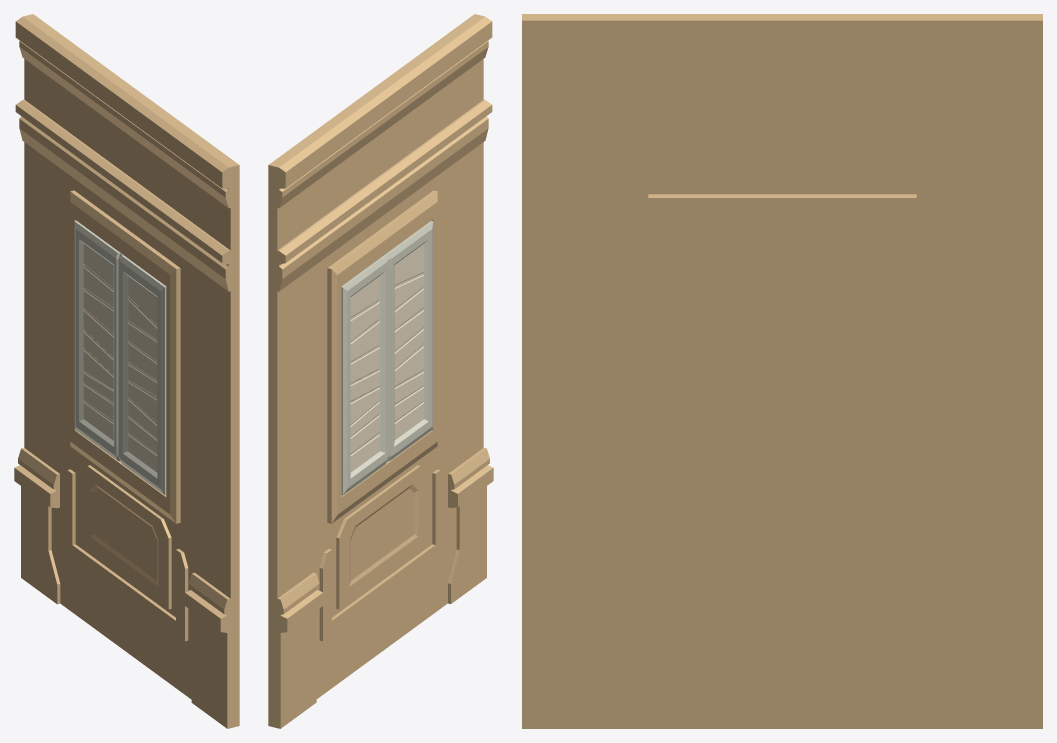
File: 4_WallHole_2_C.fbx
3 views of the same model, side by side, from view 1: azimuth 30°, elevation 25°; view 2: azimuth 150°, elevation 25°; view 3: azimuth 270°, elevation 25° (orthographic). The views are drawn at different scales.
Parts seen in each view (by area): view 1: WallHole_2_C; view 2: WallHole_2_C; view 3: WallHole_2_C.
Part boxes in pixels (x1,y1,x2,y2): WallHole_2_C: (14, 14, 239, 728); WallHole_2_C: (268, 14, 493, 728); WallHole_2_C: (522, 14, 1042, 728).
Bounding box in the file's own units: 13.96 × 200 × 300.
